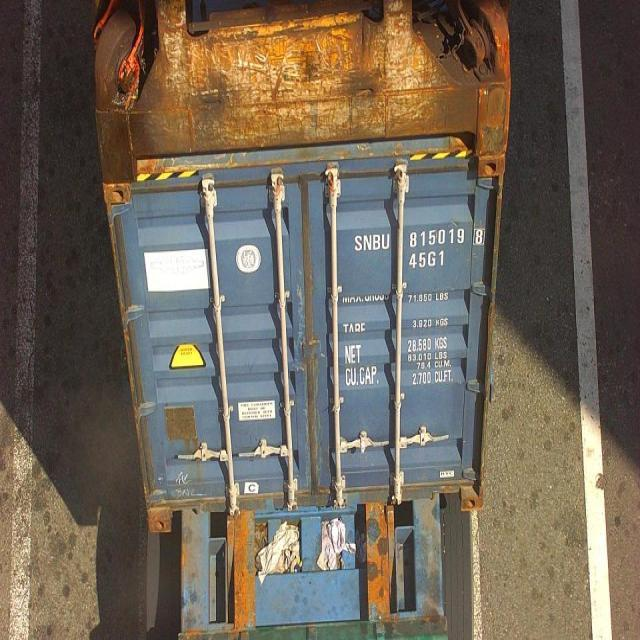ISO: (410, 250, 448, 268)
container_number: (354, 227, 486, 248)
